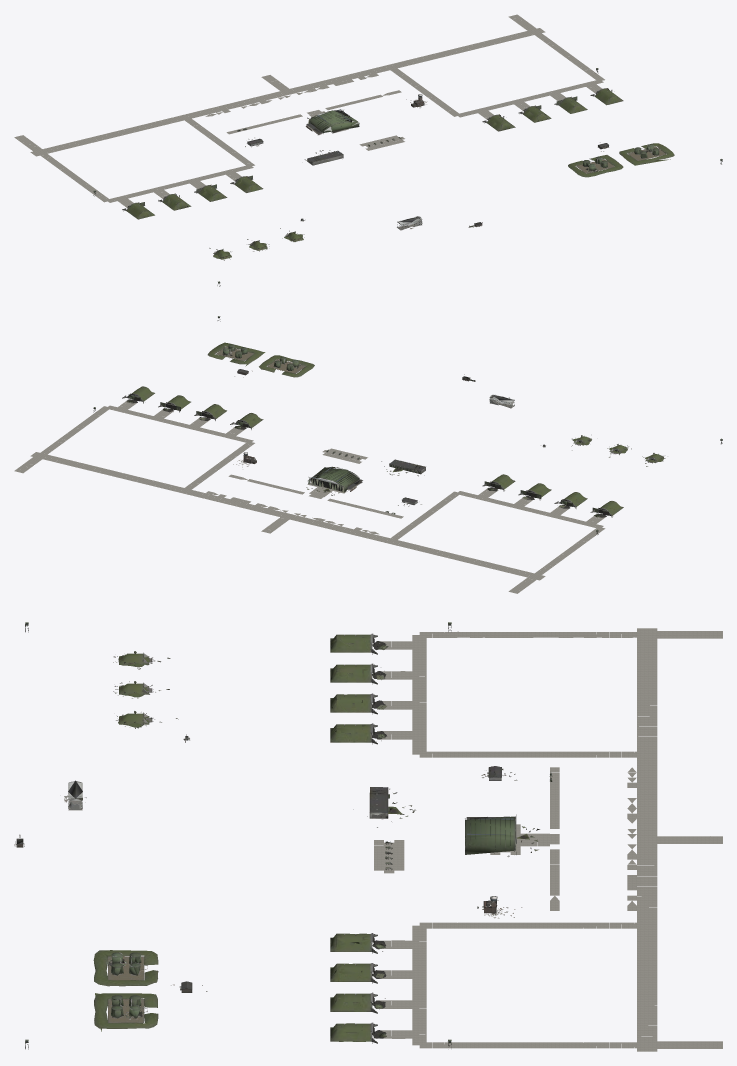
Rendered from site_air_lo.glb.
3 views of the same model, one above another, from view 1: azimuth 30°, elevation 25°; view 2: azimuth 150°, elevation 25°; view 3: azimuth 270°, elevation 25° (orthographic). The views are drawn at different scales.
Visible parts, largest first — view 1: deco|tile_conc, b_tech|A_A, b_gsm1|A_A, b_gsm2|A_A; view 2: deco|tile_conc, b_tech|A_A, b_gsm1|A_A, b_gsm2|A_A; view 3: deco|tile_conc, b_gsm2|A_A, b_gsm1|A_A, b_tech|A_A, b_has8|A_A, b_has2|A_A, b_has7|A_A.
Part boxes in pixels (x1,y1,x2,y2): deco|tile_conc: [14, 14, 604, 207]; b_tech|A_A: [306, 109, 359, 135]; b_gsm1|A_A: [568, 155, 623, 177]; b_gsm2|A_A: [619, 143, 674, 164]; deco|tile_conc: [14, 400, 605, 593]; b_tech|A_A: [308, 466, 362, 492]; b_gsm1|A_A: [259, 355, 314, 377]; b_gsm2|A_A: [207, 342, 262, 364]; deco|tile_conc: [374, 628, 722, 1051]; b_gsm2|A_A: [94, 993, 158, 1028]; b_gsm1|A_A: [93, 950, 158, 986]; b_tech|A_A: [465, 814, 516, 854]; b_has8|A_A: [330, 1022, 377, 1043]; b_has2|A_A: [330, 663, 377, 684]; b_has7|A_A: [330, 992, 377, 1013].
Bounding box in the file's own units: 990 × 28.57 × 701.
57 materials, 44 textured.
